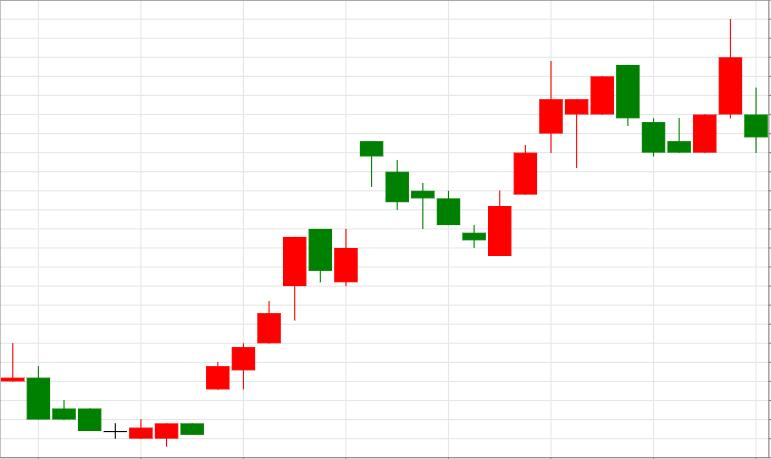bearish_engulfing_fall: (488, 61, 639, 255)
three_white_soldiers_rise: (360, 62, 562, 255)
